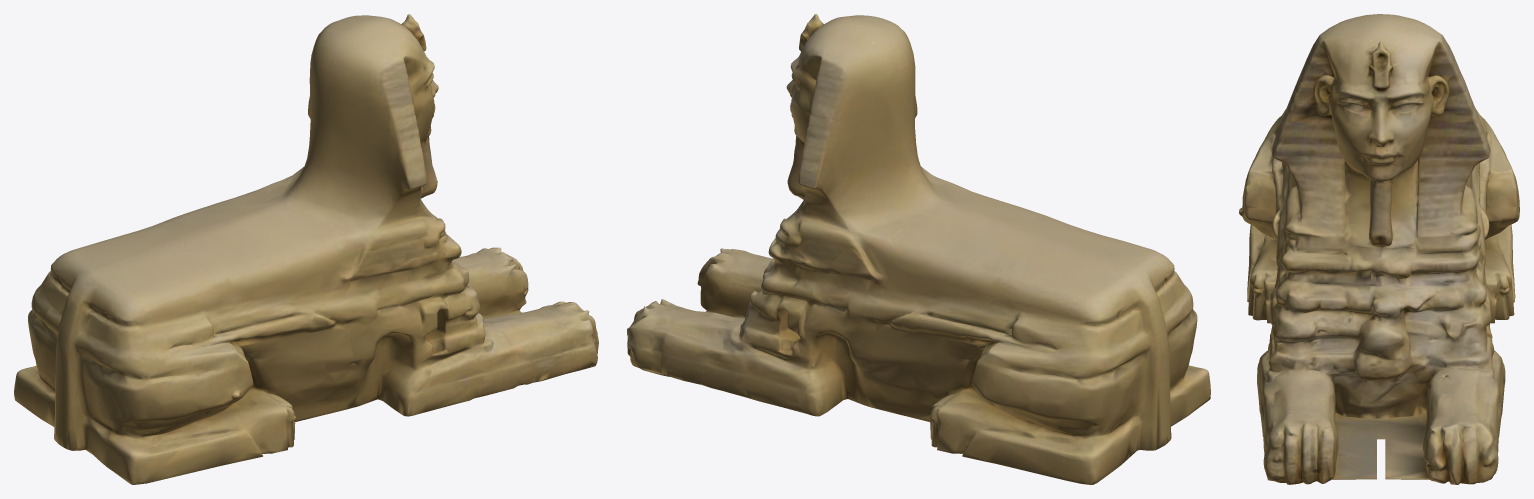
File: sphinx.glb
3 renders of one model, left to right at view 1: azimuth 30°, elevation 25°; view 2: azimuth 150°, elevation 25°; view 3: azimuth 270°, elevation 25°, orthographic. The views are drawn at different scales.
Visible parts, largest first — view 1: tripo_node_5d057cb8-c26c-4208-a936-7099aa5f2566; view 2: tripo_node_5d057cb8-c26c-4208-a936-7099aa5f2566; view 3: tripo_node_5d057cb8-c26c-4208-a936-7099aa5f2566.
Part boxes in pixels (x1,y1,x2,y2): tripo_node_5d057cb8-c26c-4208-a936-7099aa5f2566: [14, 14, 598, 484]; tripo_node_5d057cb8-c26c-4208-a936-7099aa5f2566: [627, 14, 1210, 484]; tripo_node_5d057cb8-c26c-4208-a936-7099aa5f2566: [1239, 14, 1519, 484].
Bounding box in the file's own units: 0.9999 × 0.6639 × 0.4569.
Materials: 1 (1 with a texture image).
